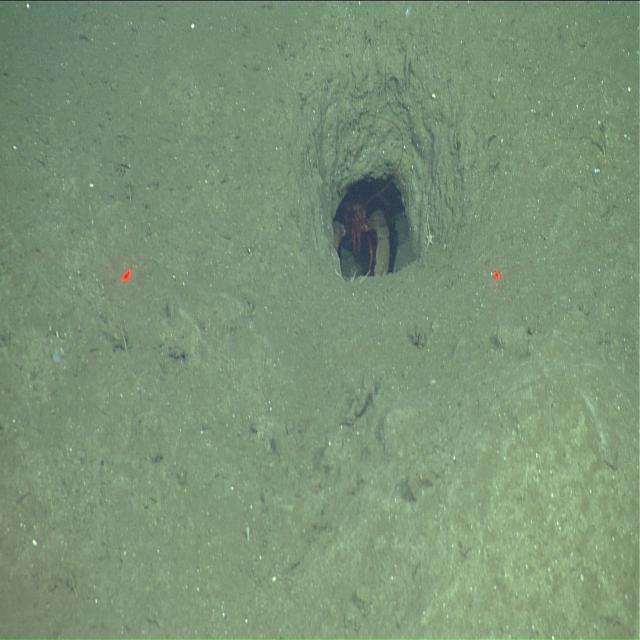Brittle Star: (420, 214, 439, 256)
